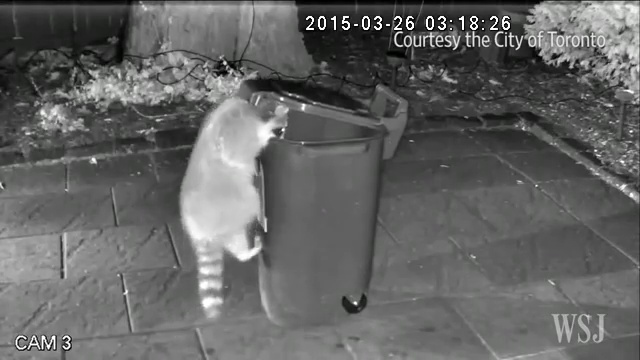raccoon: (174, 91, 297, 324)
